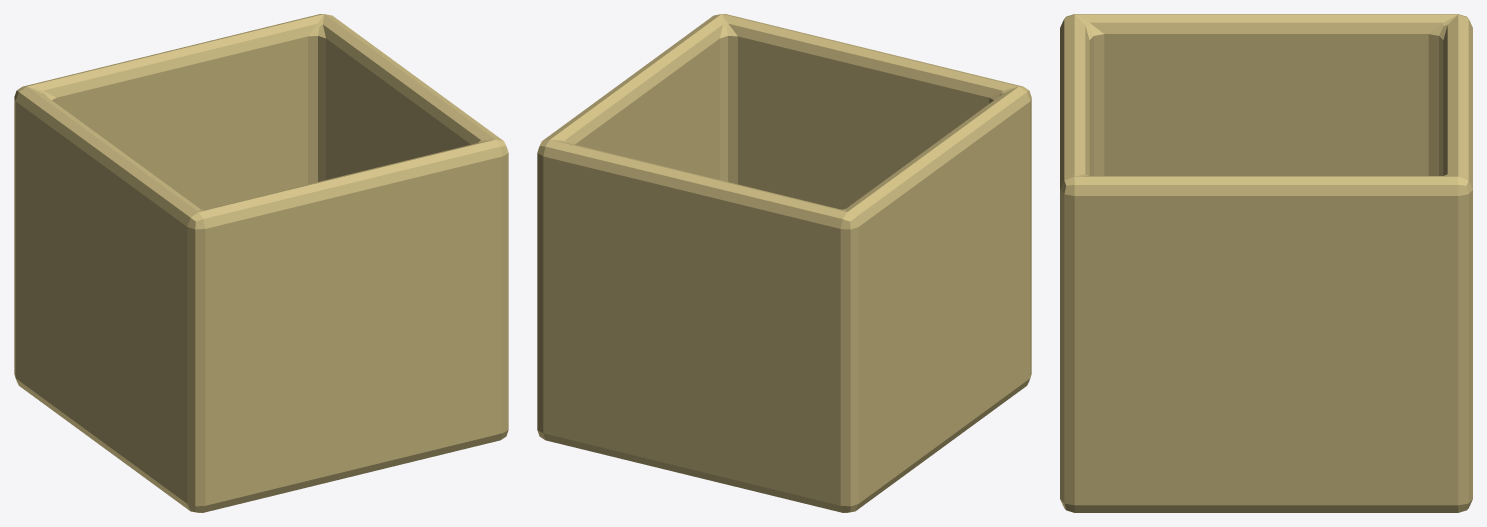
Rendered from droppingArea.glb.
The picture shows the model from 3 angles, left to right: view 1: azimuth 30°, elevation 25°; view 2: azimuth 150°, elevation 25°; view 3: azimuth 270°, elevation 25°; orthographic projection. The views are drawn at different scales.
Visible parts, largest first — view 1: droppingArea; view 2: droppingArea; view 3: droppingArea.
Part boxes in pixels (<box>): droppingArea: <box>14,14,508,512</box>; droppingArea: <box>537,14,1031,512</box>; droppingArea: <box>1060,14,1472,512</box>.
Bounding box in the file's own units: 2.3 × 2.06 × 2.3.
